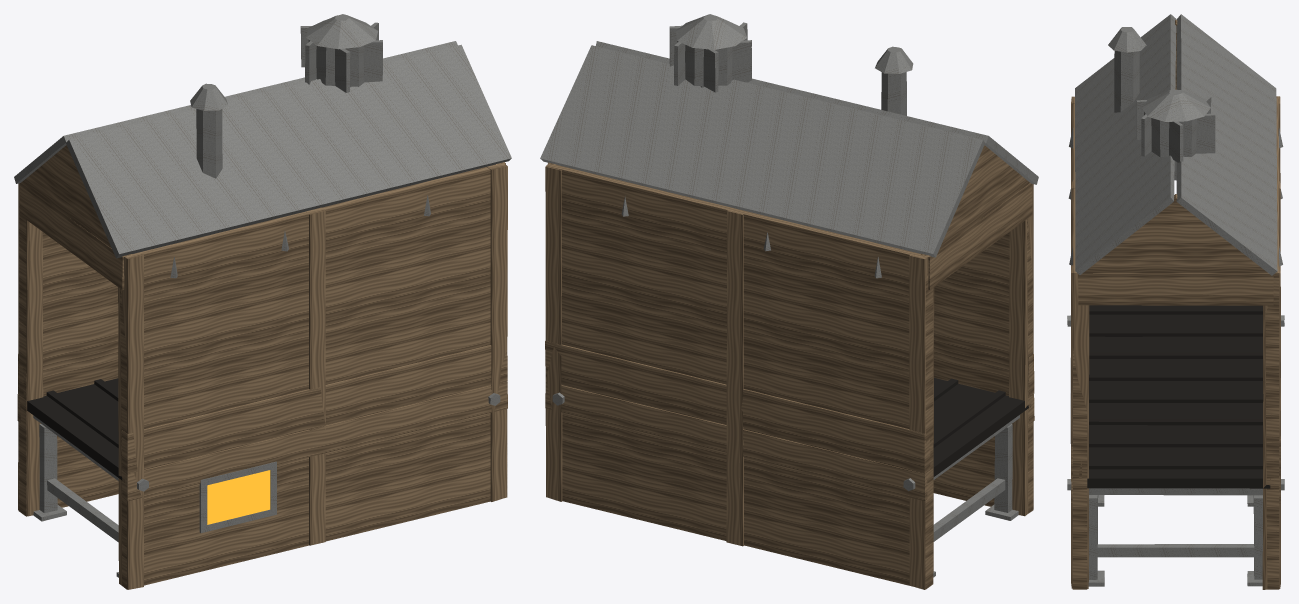
File: thawing_shed.glb
The picture shows the model from 3 angles, left to right: view 1: azimuth 30°, elevation 25°; view 2: azimuth 150°, elevation 25°; view 3: azimuth 270°, elevation 25°; orthographic projection. The views are drawn at different scales.
Parts seen in each view (by area): view 1: ThawingShed, Belt, Vent; view 2: ThawingShed, Belt, Vent; view 3: ThawingShed, Belt, Vent, Roller2.
Part boxes in pixels (<box>): ThawingShed: <box>14,41,511,589</box>; Belt: <box>27,378,122,480</box>; Vent: <box>300,14,382,92</box>; ThawingShed: <box>540,41,1038,589</box>; Belt: <box>933,378,1028,476</box>; Vent: <box>669,14,751,92</box>; ThawingShed: <box>1067,14,1284,589</box>; Belt: <box>1087,305,1270,488</box>; Vent: <box>1136,89,1215,162</box>; Roller2: <box>1089,488,1262,495</box>.
Bounding box in the file's own units: 3.48 × 3.96 × 1.74.
4 materials, 2 textured.
